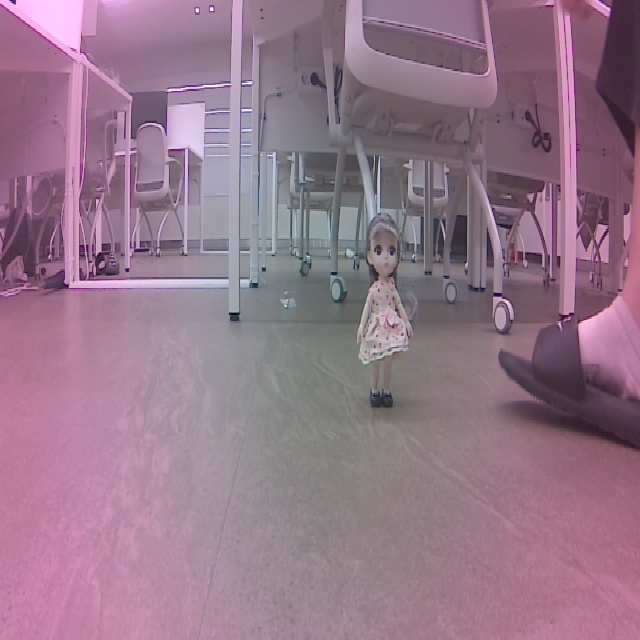장애물: (348, 211, 423, 418)
